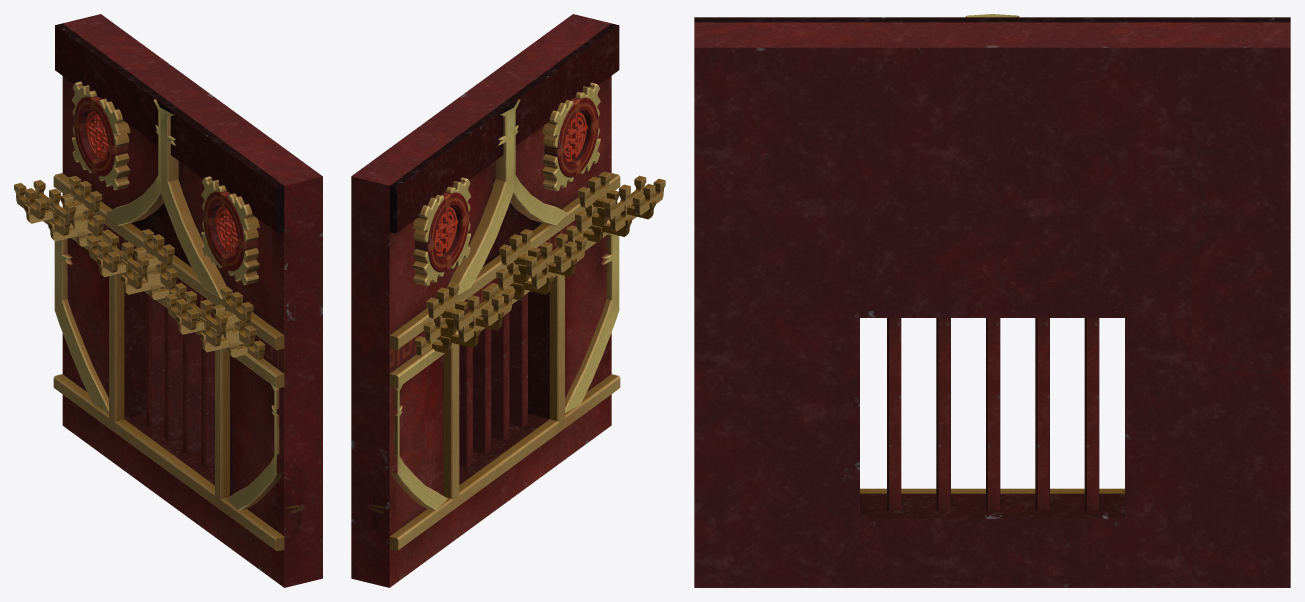
The model's file is SM_KingsTempleWall2x2.glb.
3 renders of one model, left to right at view 1: azimuth 30°, elevation 25°; view 2: azimuth 150°, elevation 25°; view 3: azimuth 270°, elevation 25°, orthographic. The views are drawn at different scales.
Visible parts, largest first — view 1: SM_KingsTempleWall2x2_LOD0; view 2: SM_KingsTempleWall2x2_LOD0; view 3: SM_KingsTempleWall2x2_LOD0.
Boxes of the visible parts, bbox=[...] form: SM_KingsTempleWall2x2_LOD0: bbox=[14, 14, 322, 587]; SM_KingsTempleWall2x2_LOD0: bbox=[351, 14, 665, 587]; SM_KingsTempleWall2x2_LOD0: bbox=[694, 14, 1290, 587].
Size of the model in its own units: 0.5879 by 2 by 2.
Materials: 1 (1 with a texture image).
